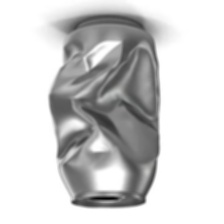can: (45, 11, 166, 212)
